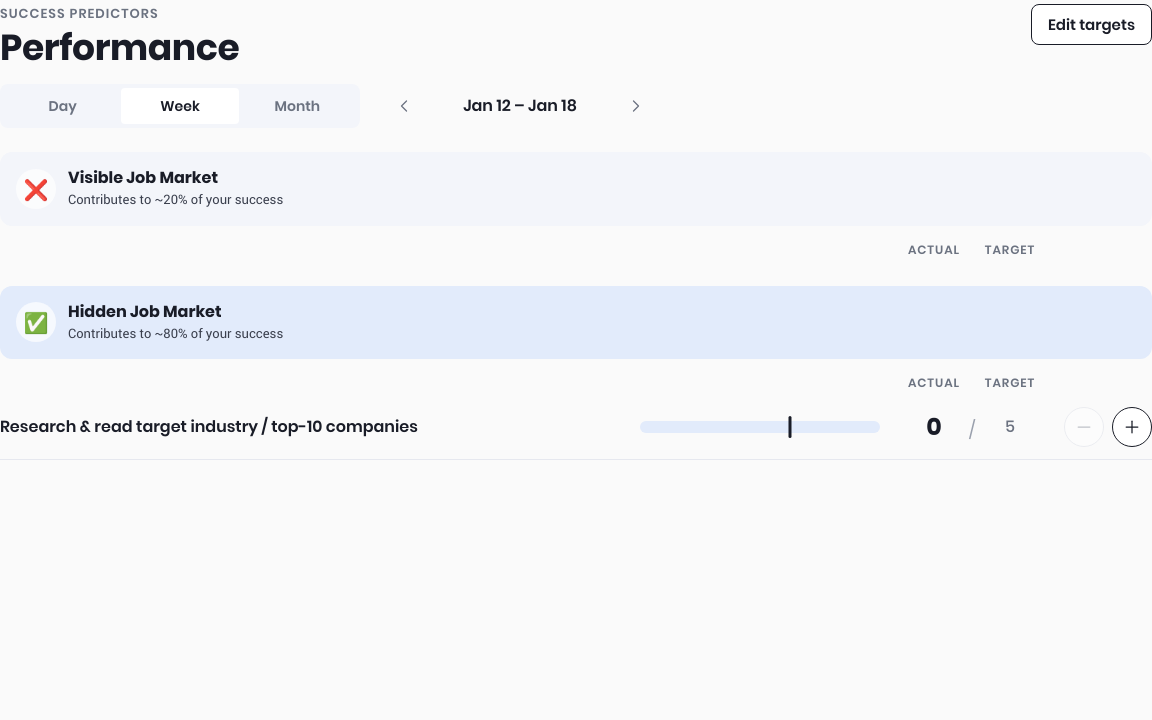
PerformanceScreen (presentational) › + / − only ever log; the row's target is the way in to change it
Click the button named "Log one: Research & read target industry / top-10 companies".
click(1132, 427)  # box [1112,407,1151,447]
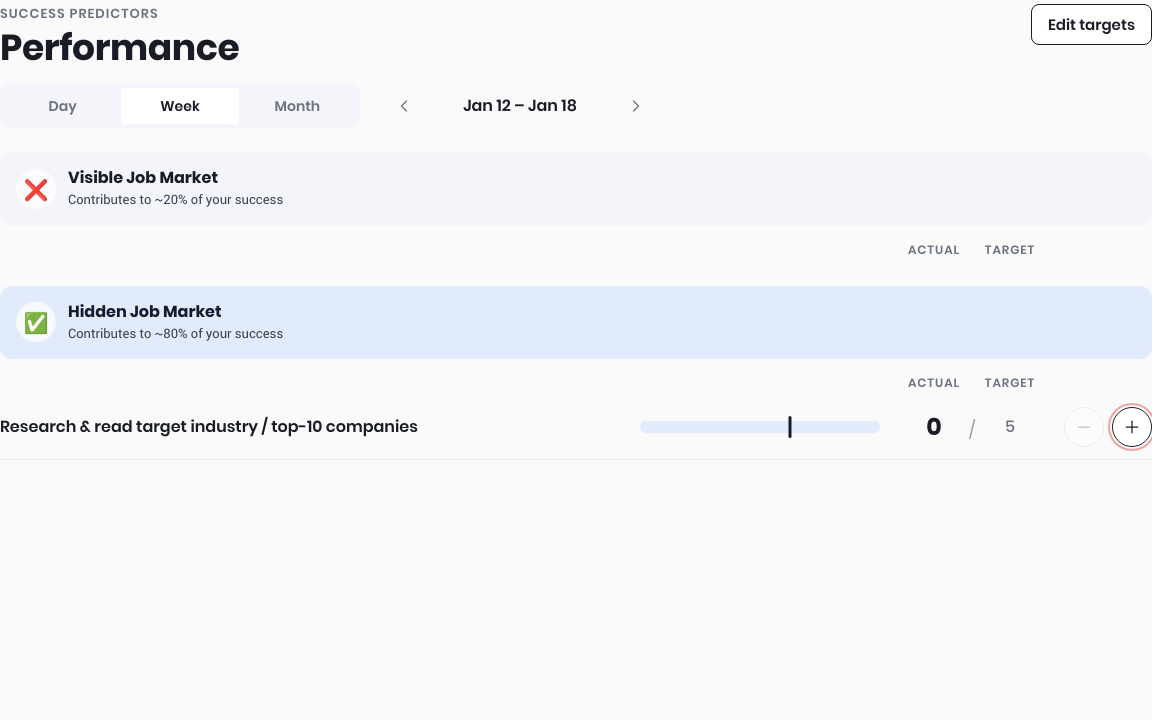
// Tap the target → sheet, weekly stepper, Done → one write with the weekly base.
Click the button "5".
click(1010, 427)  # box [980,407,1040,447]
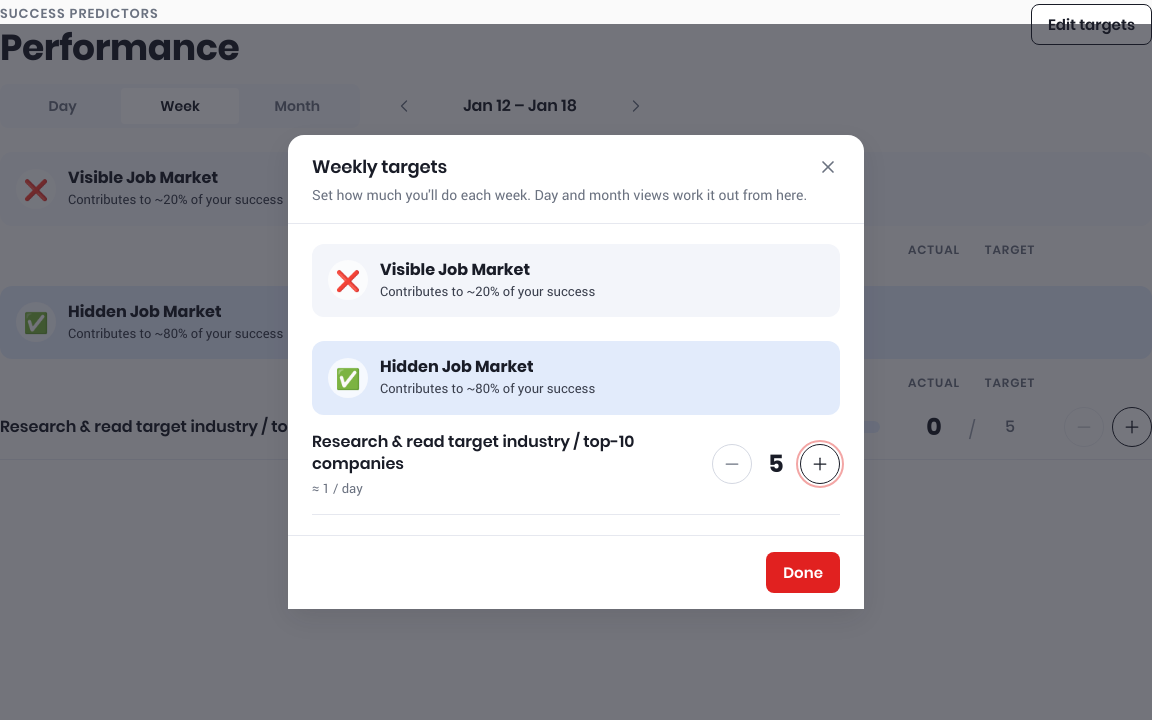
Expected: the heading "Weekly targets" is shown, [312,154,447,179]
Click the button named "Raise weekly target: Research & read target industry / top-1".
click(820, 464)  # box [800,444,840,484]
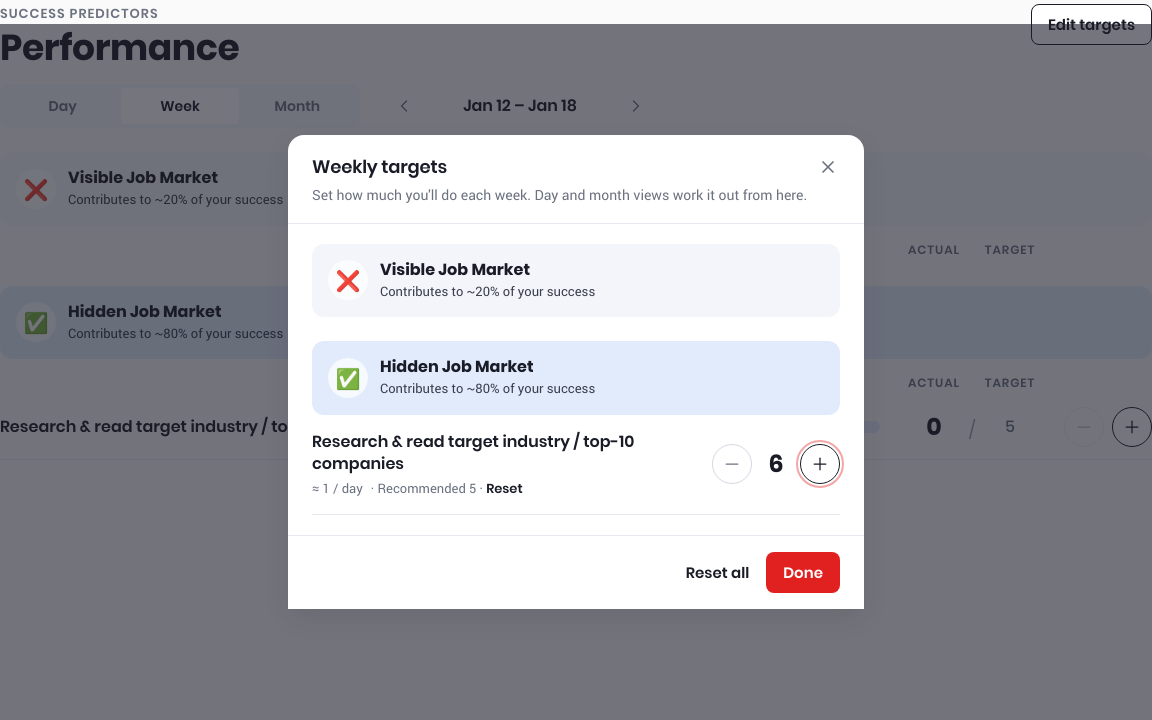
Click the button "Done".
click(803, 572)  # box [766,552,840,593]
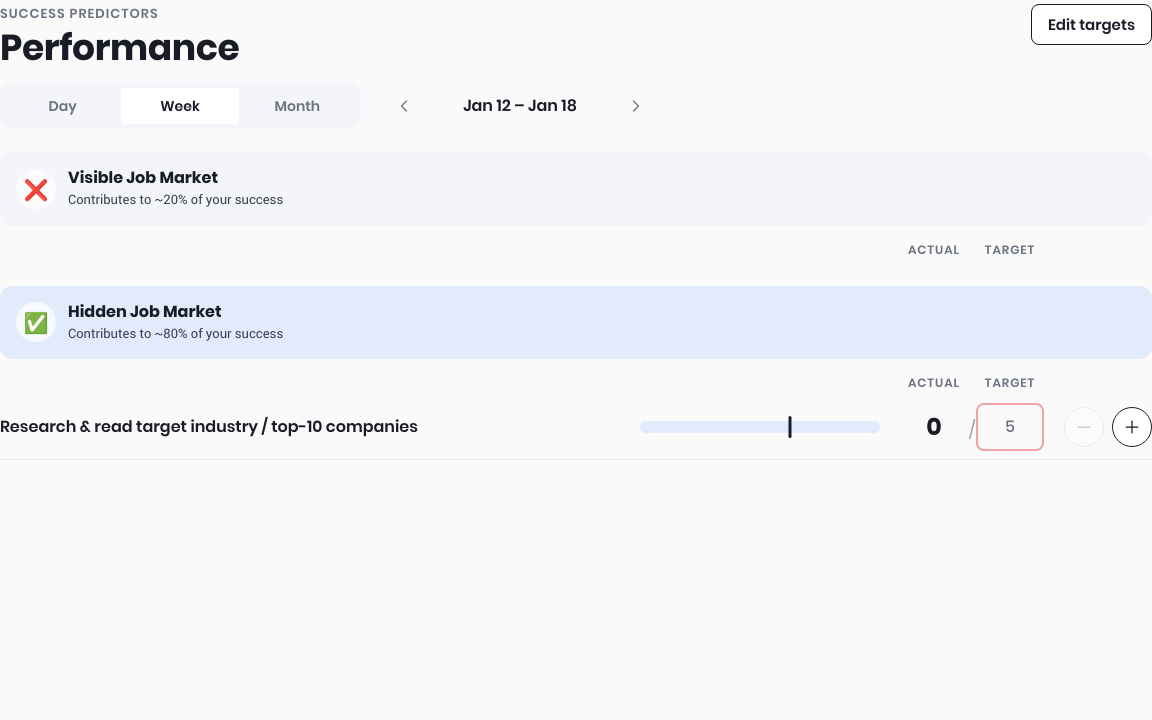
Expected: the dialog is gone
